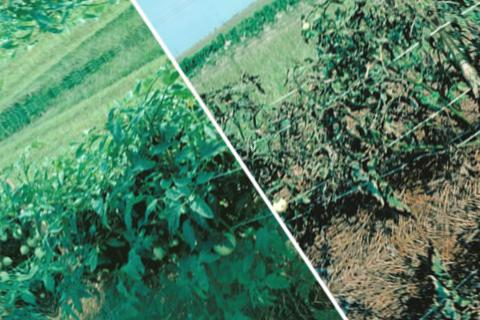Tomato leaf bacterial spot: (182, 187, 221, 230), (183, 256, 222, 297), (108, 192, 146, 234), (125, 147, 158, 182), (119, 250, 150, 284)
